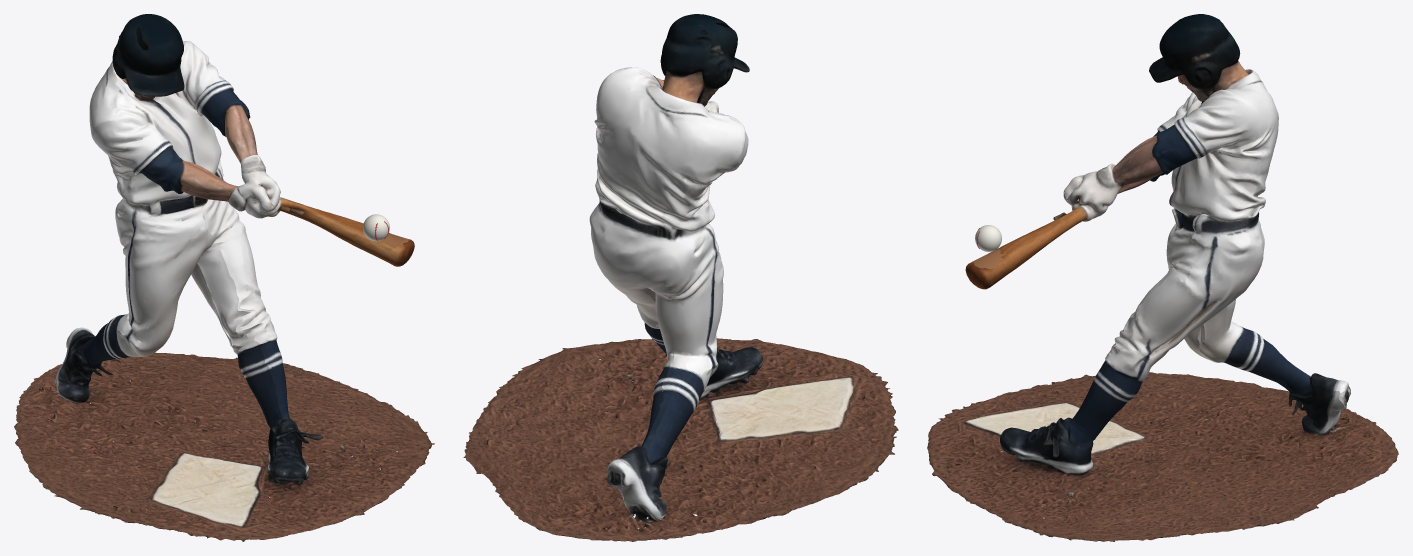
Rendered from baseball-geometry.glb.
The picture shows the model from 3 angles, left to right: view 1: azimuth 30°, elevation 25°; view 2: azimuth 150°, elevation 25°; view 3: azimuth 270°, elevation 25°; orthographic projection. The views are drawn at different scales.
Parts seen in each view (by area): view 1: baseball-impact-reviewed-baseline, single-contact-baseball; view 2: baseball-impact-reviewed-baseline; view 3: baseball-impact-reviewed-baseline, single-contact-baseball.
Boxes of the visible parts, x1=… form: baseball-impact-reviewed-baseline: x1=14, y1=14, x2=434, y2=541; single-contact-baseball: x1=363, y1=214, x2=389, y2=241; baseball-impact-reviewed-baseline: x1=463, y1=14, x2=898, y2=541; baseball-impact-reviewed-baseline: x1=927, y1=14, x2=1398, y2=541; single-contact-baseball: x1=975, y1=225, x2=1001, y2=251.
Bounding box in the file's own units: 0.8537 × 0.9871 × 0.9993.
Materials: 5 (1 with a texture image).
